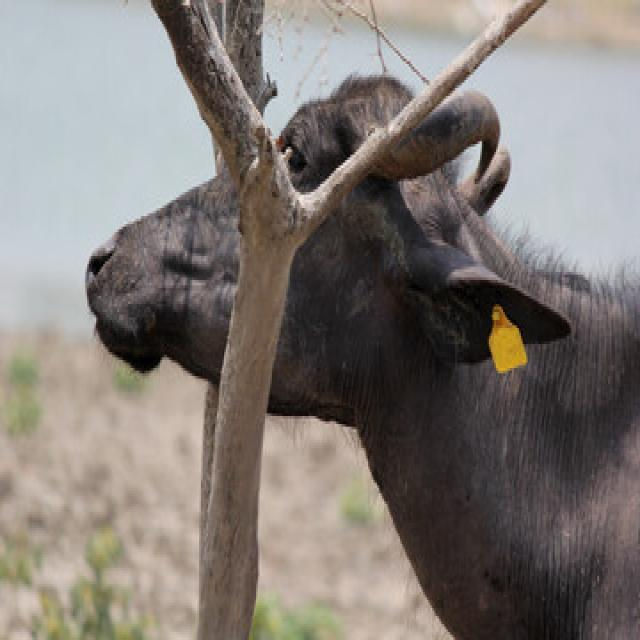Buffalo: (82, 67, 638, 637)
